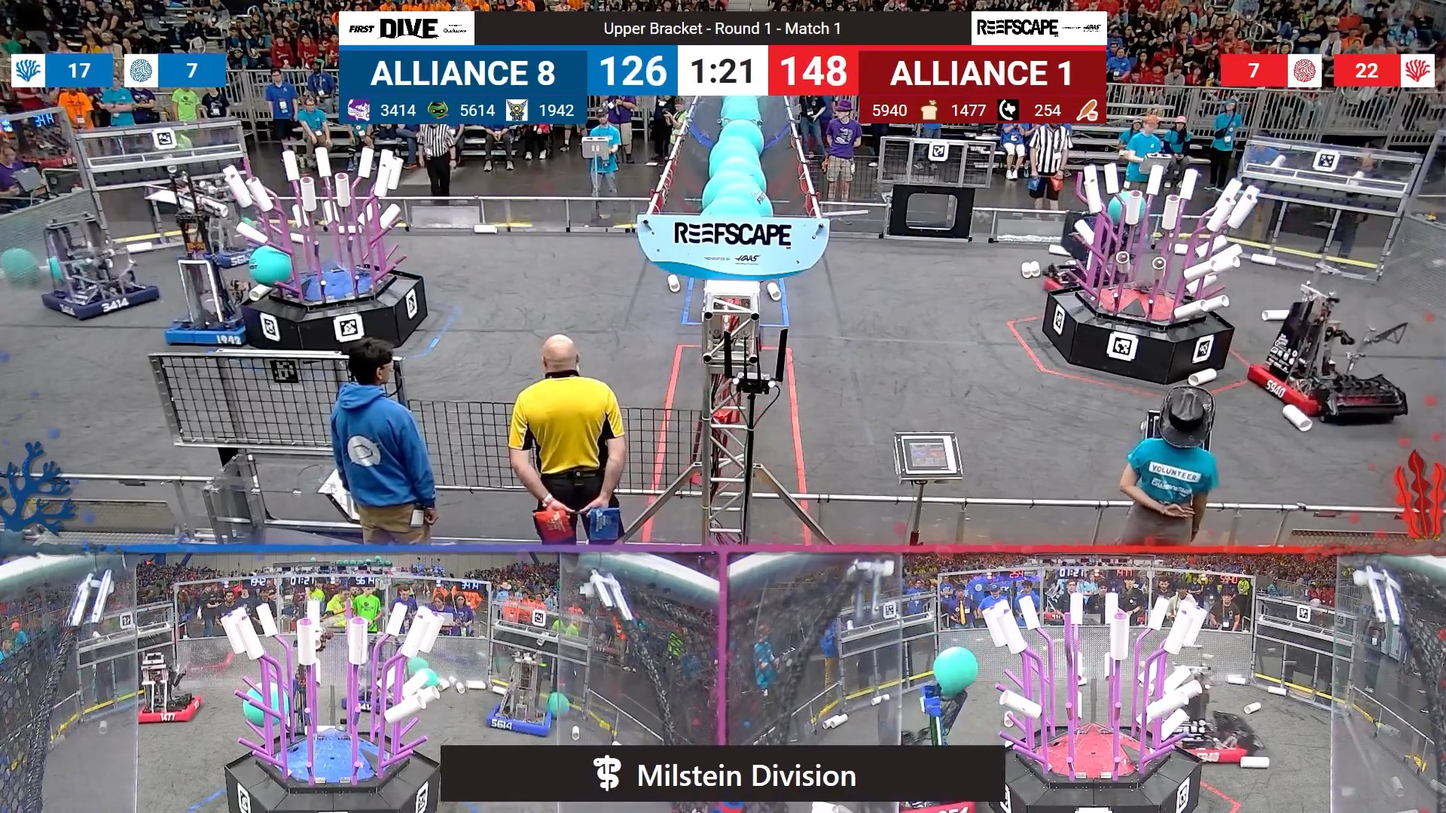bumpers: (1238, 353, 1398, 423), (36, 276, 167, 323), (1167, 722, 1259, 770), (162, 304, 253, 349), (480, 700, 559, 740), (128, 694, 208, 729), (1033, 263, 1089, 292)
